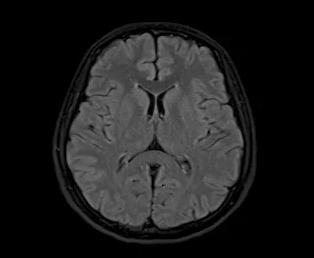Normal_Brain: (47, 5, 258, 258)
